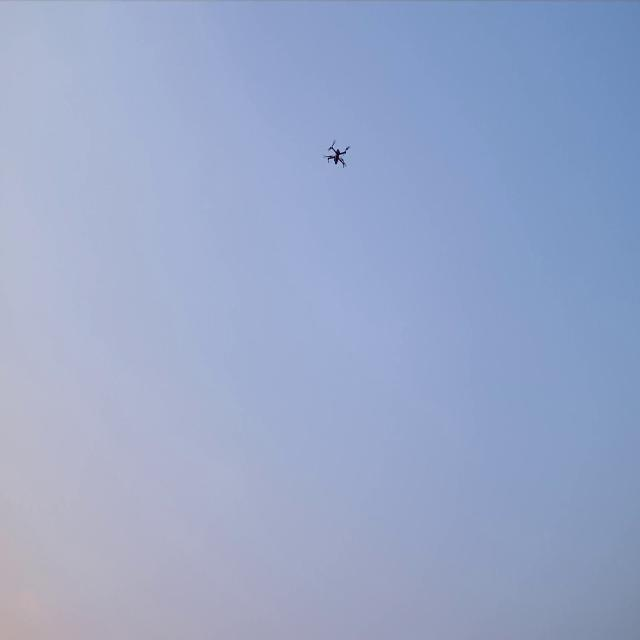UAV: (321, 137, 351, 169)
